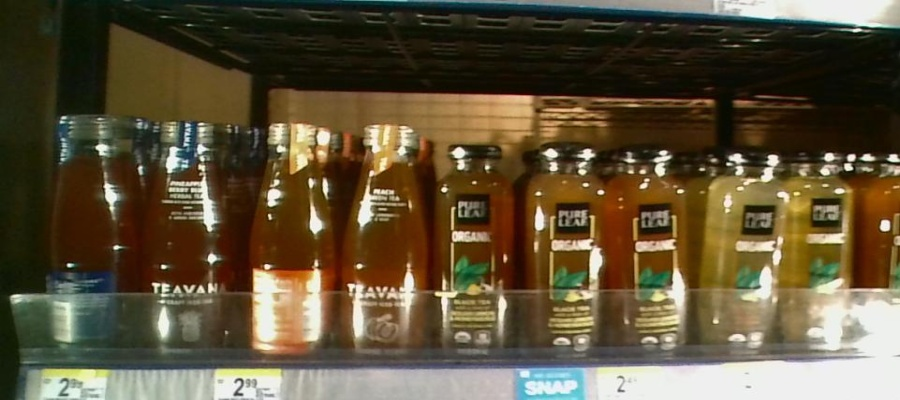bottle: (136, 115, 240, 347), (245, 116, 336, 352), (345, 115, 432, 351), (697, 135, 788, 349), (48, 111, 125, 346), (520, 139, 606, 349), (607, 137, 692, 348), (436, 142, 519, 349), (787, 133, 856, 352)
